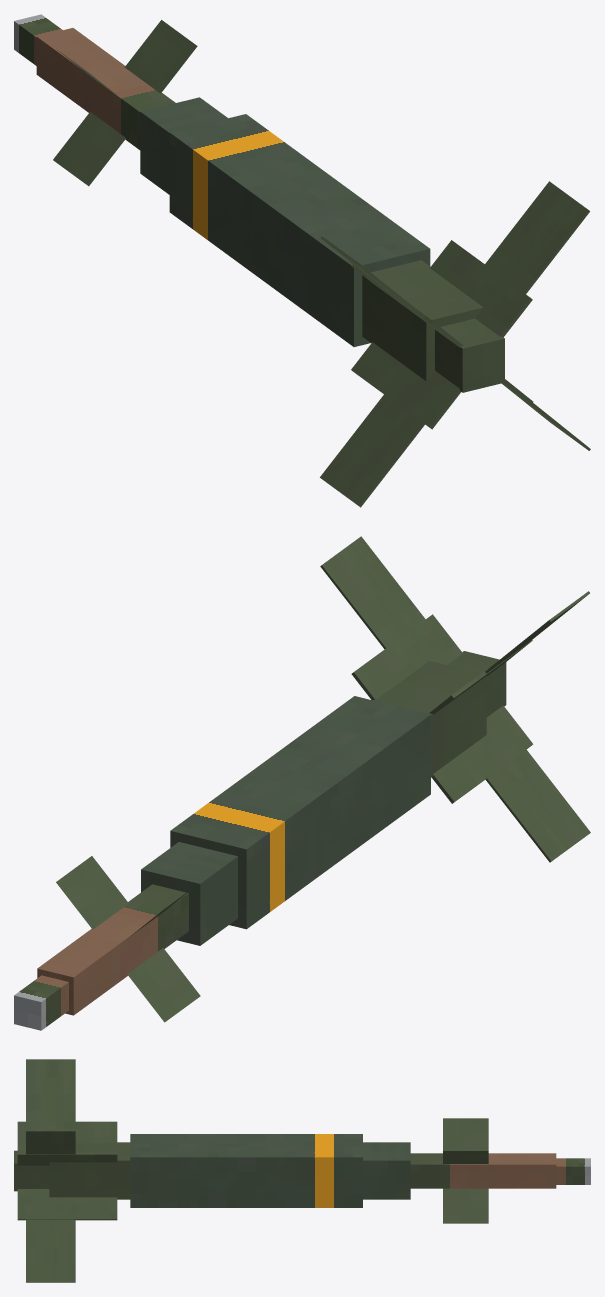
File: gbu24.obj
3 renders of one model, top to bottom at view 1: azimuth 30°, elevation 25°; view 2: azimuth 150°, elevation 25°; view 3: azimuth 270°, elevation 25°, orthographic. The views are drawn at different scales.
Visible parts, largest first — view 1: cube3, cube7, cube6, cube1, cube2, cube8, cube0, cube4, cube5, cube11, cube10; view 2: cube3, cube7, cube2, cube6, cube1, cube4, cube8, cube5, cube0; view 3: cube3, cube11, cube2, cube10, cube1, cube9, cube4, cube7, cube6, cube0, cube5, cube8.
Boxes of the visible parts, <box> form: cube3: <box>169,114,430,346</box>; cube7: <box>320,181,589,507</box>; cube6: <box>351,240,532,429</box>; cube1: <box>362,260,483,381</box>; cube2: <box>36,28,175,149</box>; cube8: <box>53,20,197,186</box>; cube0: <box>435,318,504,392</box>; cube4: <box>140,97,227,194</box>; cube5: <box>14,14,62,65</box>; cube11: <box>320,236,590,450</box>; cube10: <box>351,264,533,404</box>; cube3: <box>170,696,430,929</box>; cube7: <box>320,536,590,862</box>; cube2: <box>37,884,188,1015</box>; cube6: <box>351,614,533,803</box>; cube1: <box>373,661,486,777</box>; cube4: <box>141,842,237,945</box>; cube8: <box>56,856,200,1022</box>; cube5: <box>14,975,68,1030</box>; cube0: <box>448,651,506,716</box>; cube3: <box>130,1134,362,1207</box>; cube11: <box>26,1059,75,1282</box>; cube2: <box>410,1153,556,1188</box>; cube10: <box>17,1121,117,1220</box>; cube1: <box>49,1142,130,1199</box>; cube9: <box>443,1118,488,1223</box>; cube4: <box>363,1142,410,1199</box>; cube7: <box>26,1130,75,1154</box>; cube6: <box>17,1152,117,1165</box>; cube0: <box>14,1150,49,1191</box>; cube5: <box>556,1158,590,1184</box>; cube8: <box>443,1151,488,1163</box>.
Bounding box in the file's own units: 1.27 × 1.27 × 4.34.
